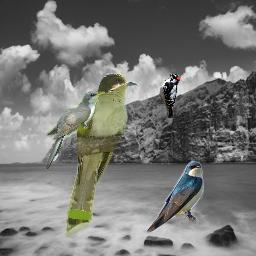Cuckoo: (65, 73, 138, 237), (45, 91, 105, 169)
Swallow: (144, 159, 206, 234)
Woodpecker: (159, 72, 181, 118)
